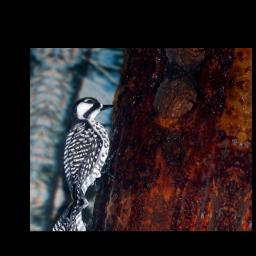Woodpecker: (51, 89, 130, 208)
